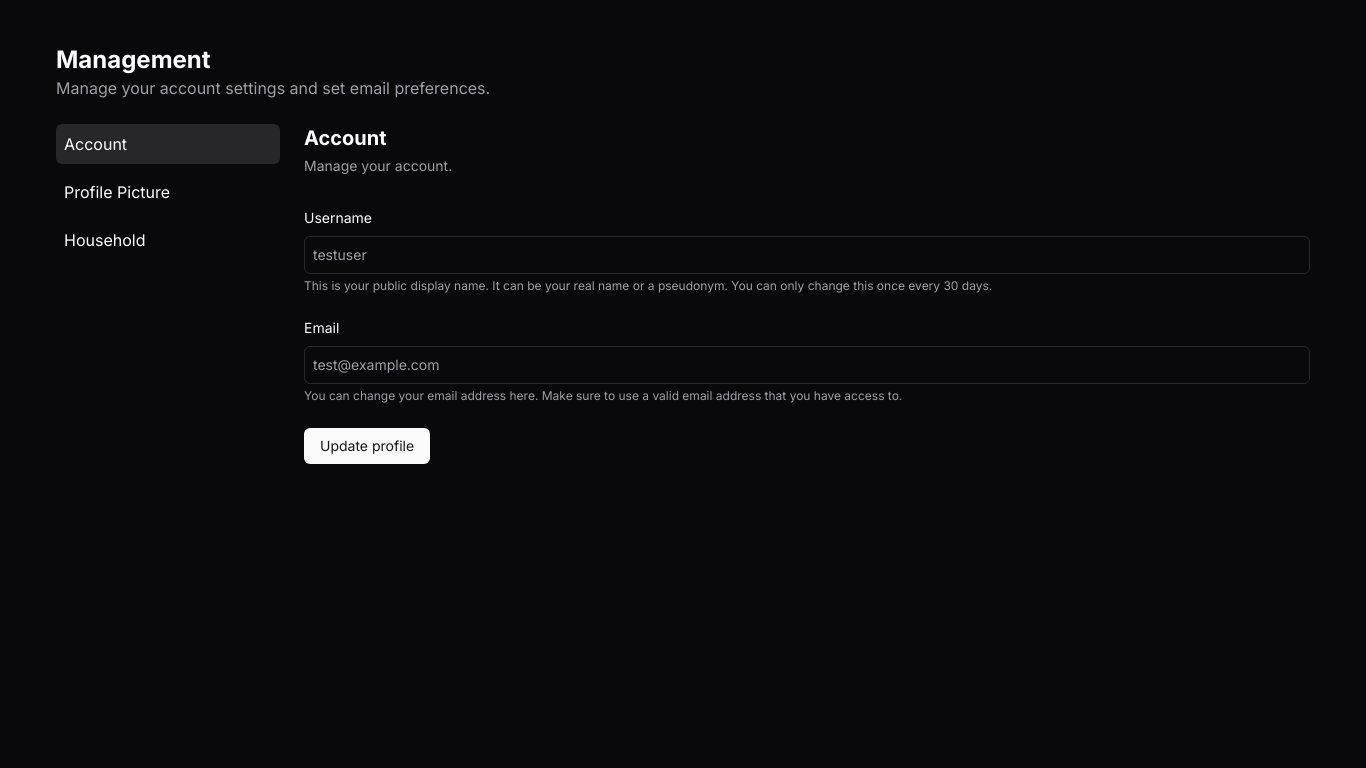
Management Page Tests › should handle profile picture selection and save
Click the list item "Profile Picture".
click(117, 192)  # box [64,182,170,202]
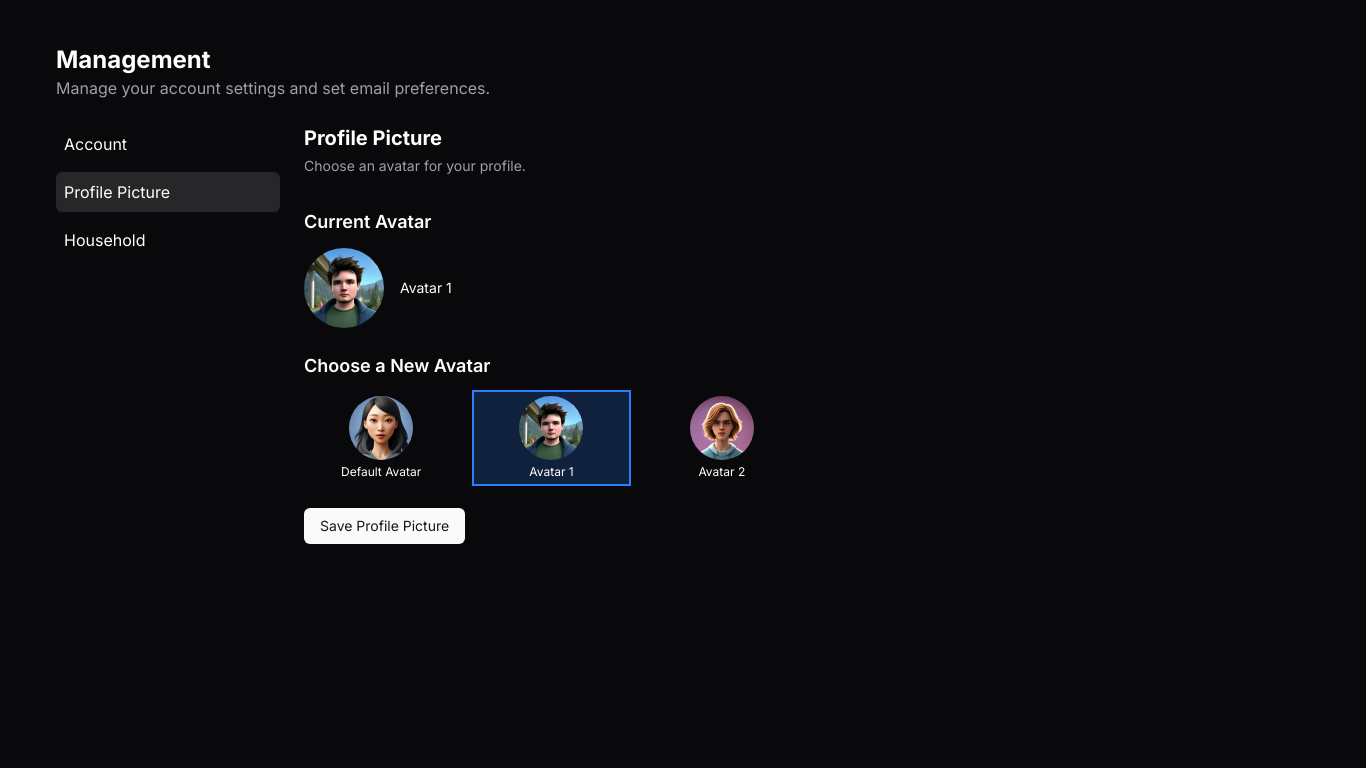
Check: the heading "Choose a New Avatar" is shown, box [304,355,490,376]
Click the element showing "Avatar 2".
click(722, 438)  # box [690,396,754,479]
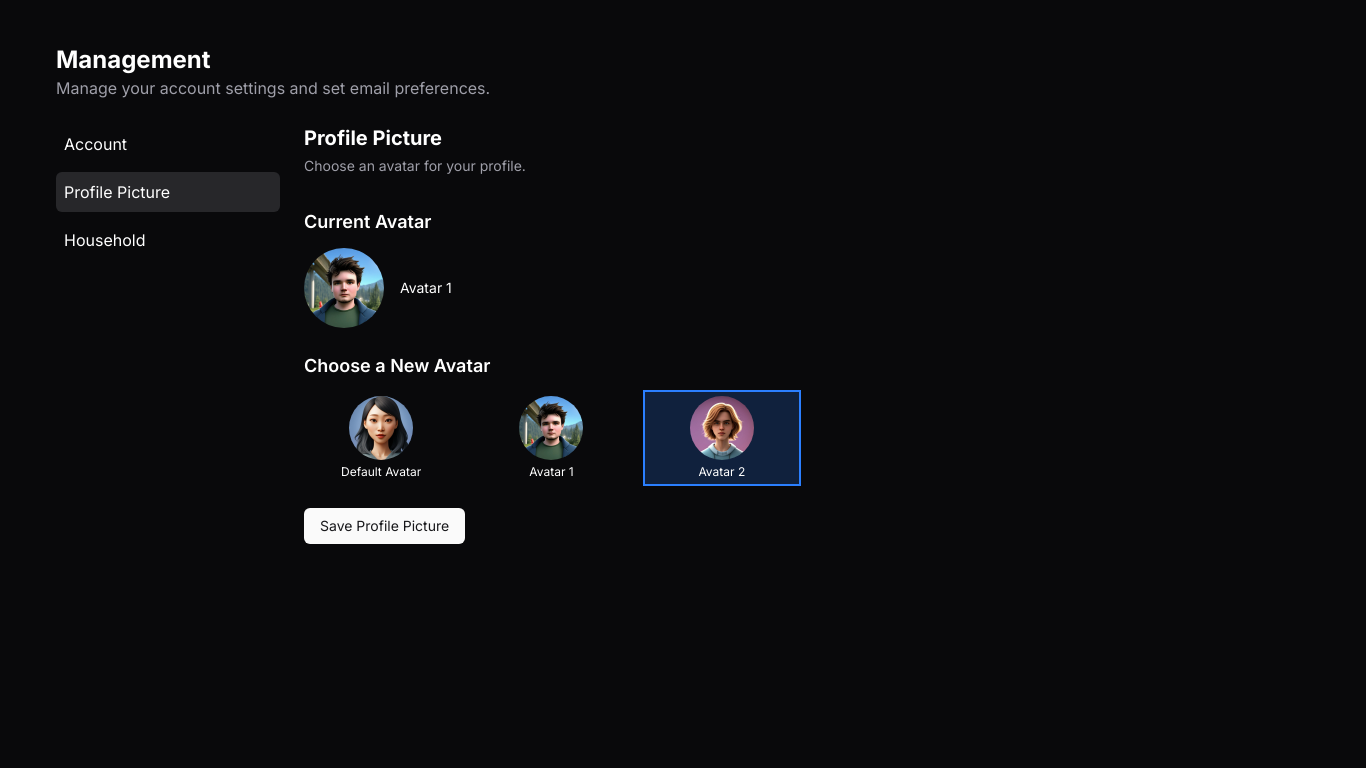
Click the button "Save Profile Picture".
click(385, 526)  # box [304,508,465,544]
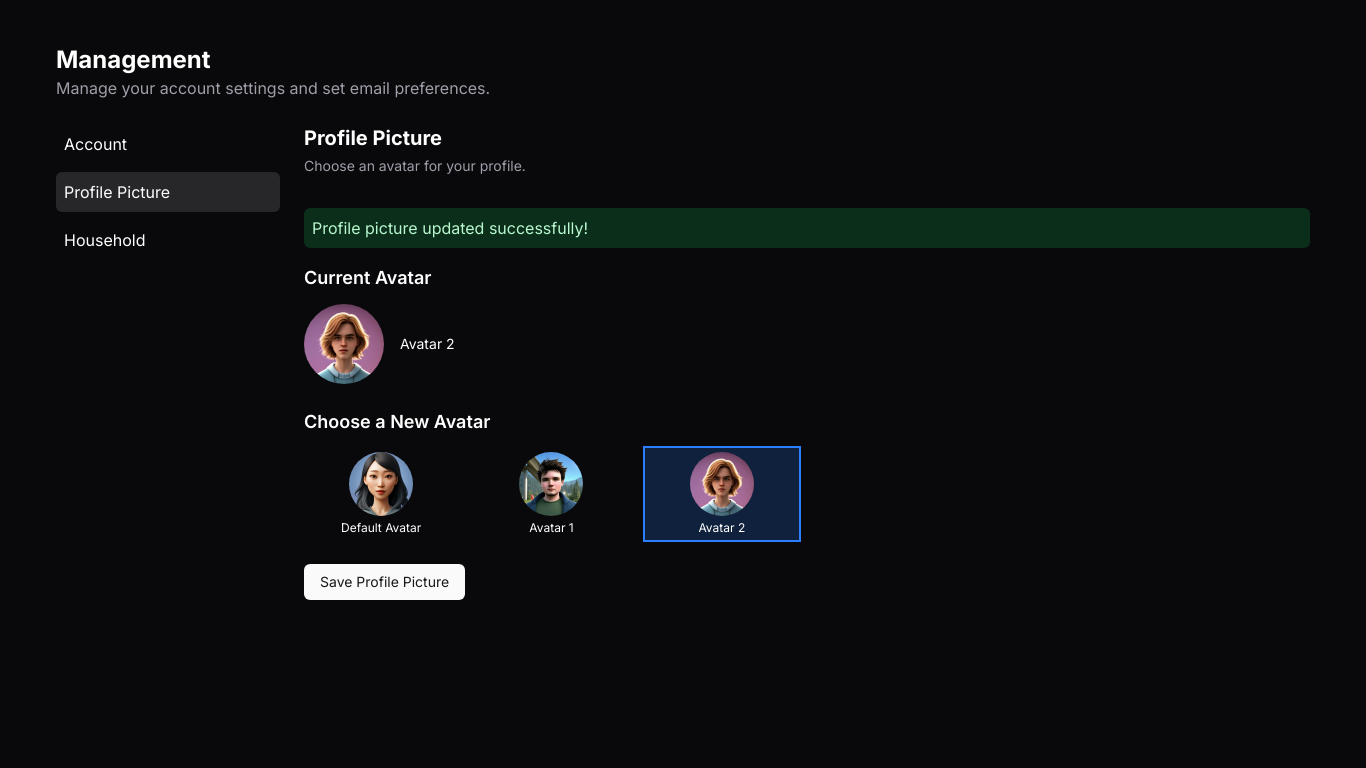
Check: the text "Profile picture updated successfully!" is shown, box [304,208,1310,248]
